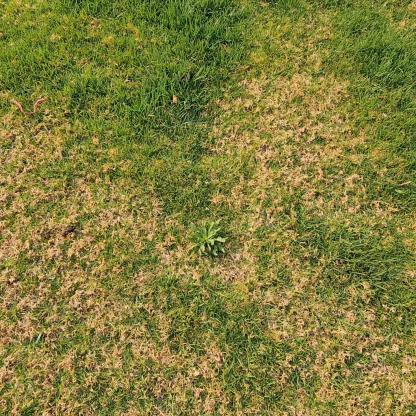Weeds: (185, 223, 228, 257)
